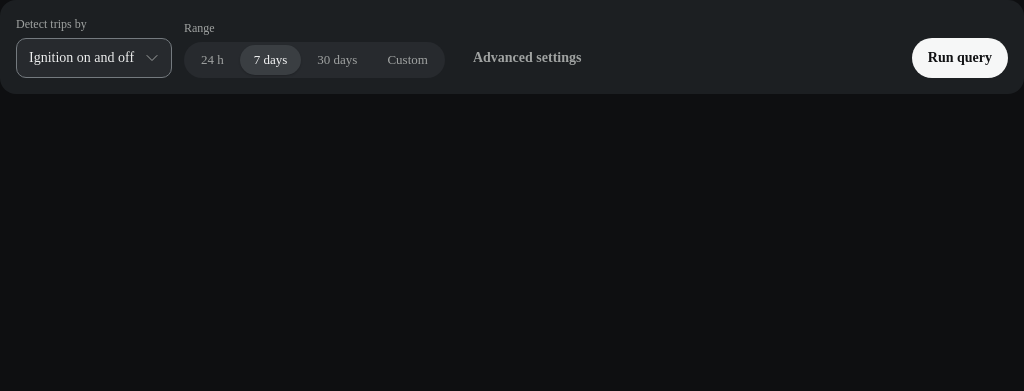
TripsTab › shows a refused privilege instead of the empty trips state
What coordinates should you click on to do the following:
click the button "Run query"
I would click on:
 (960, 58)
Its box is [912,38,1008,78].
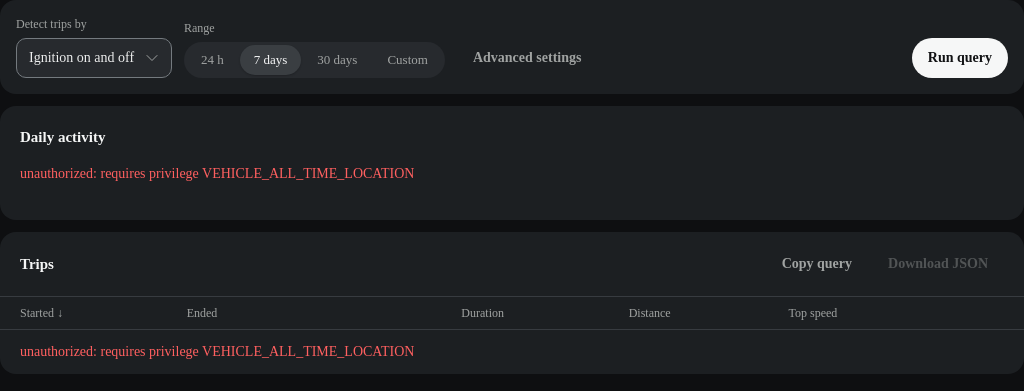
expect the text "unauthorized: requires privilege VEHICLE_ALL_TIME_LOCATION" is shown 2 times: met, box [20,166,414,181]; [0,329,1023,374]
